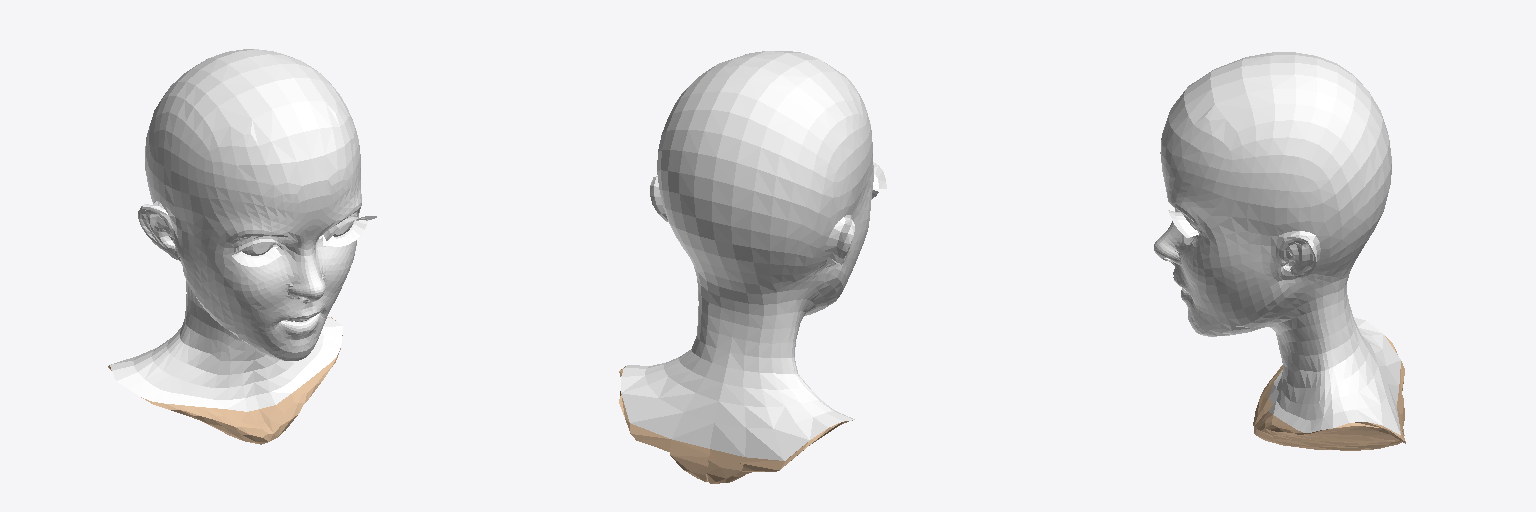
3 renders of one model, left to right at view 1: azimuth 30°, elevation 25°; view 2: azimuth 150°, elevation 25°; view 3: azimuth 270°, elevation 25°, orthographic.
Visible parts, largest first — view 1: Body, Eyelashes; view 2: Body; view 3: Body.
Boxes of the visible parts, <box> form: Body: <box>110,49,361,411</box>; Eyelashes: <box>232,216,376,266</box>; Body: <box>621,51,873,460</box>; Body: <box>1154,52,1400,434</box>.
Bounding box in the file's own units: 23 × 37.41 × 22.09.